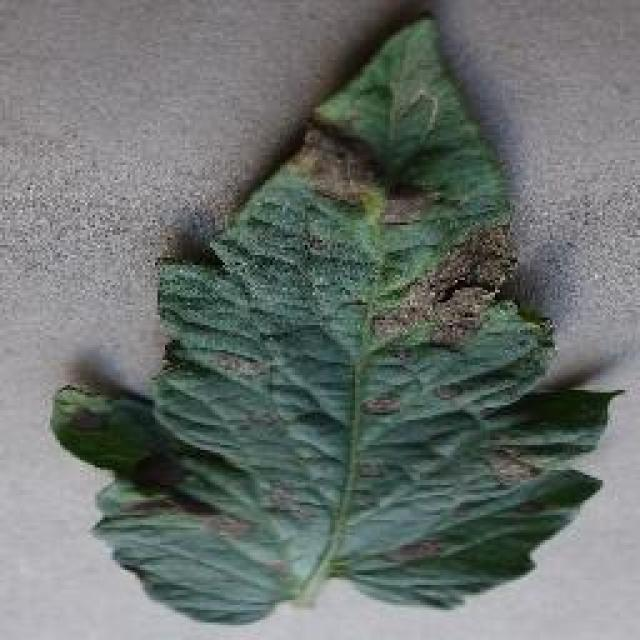Tomato___Early_blight: (46, 15, 630, 627)
